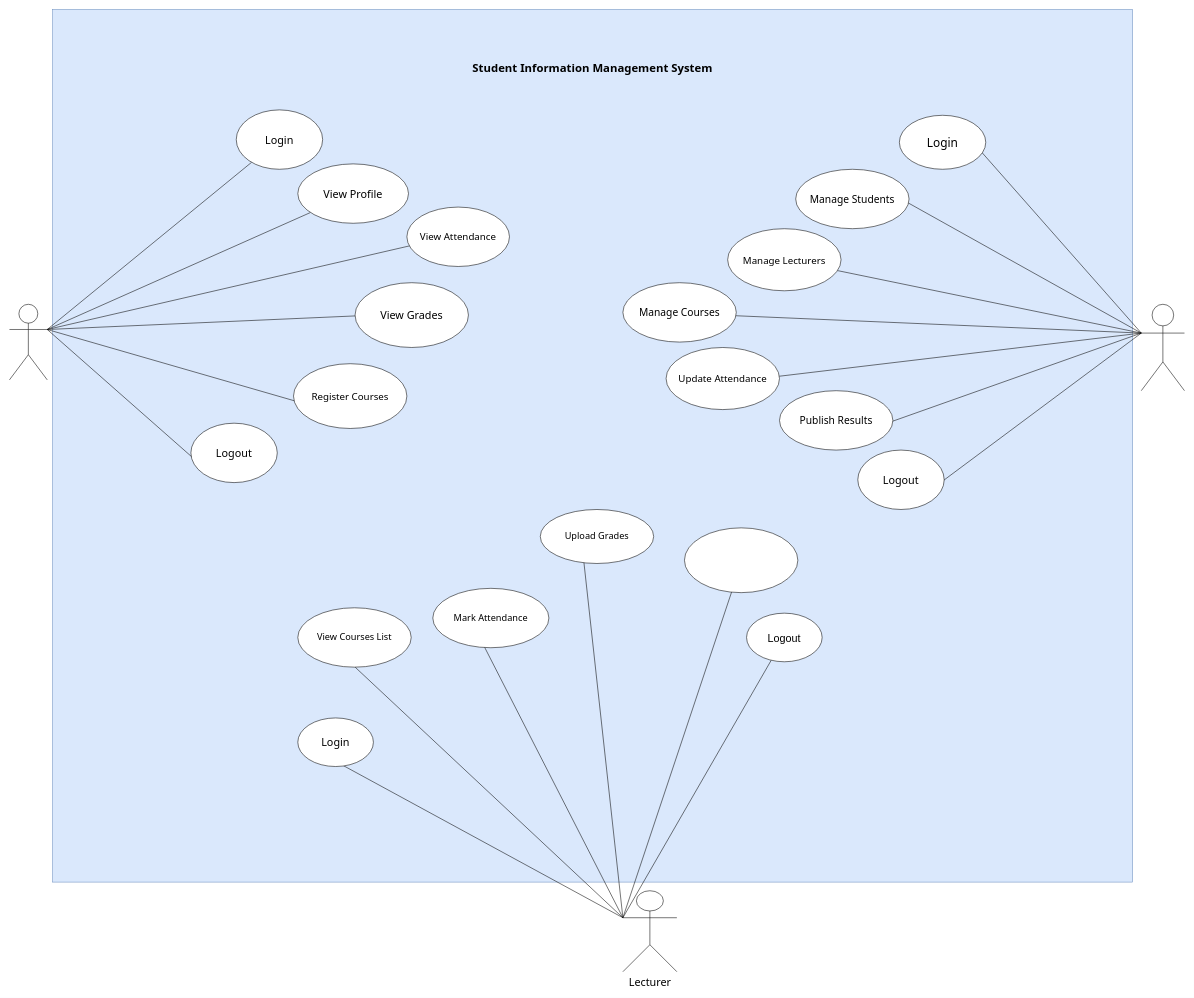
This 1194x998 diagram has some shape labels left out. Each missing label, with the centre of its shape:
Admin: pixel 1162 347
Student: pixel 28 342
View Student List: pixel 741 560
